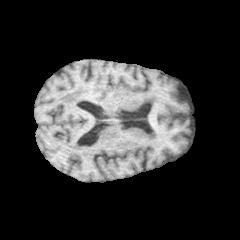glioma: (58, 67, 109, 105)
